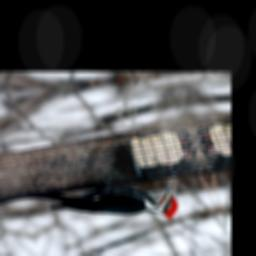Woodpecker: (19, 159, 186, 238)
